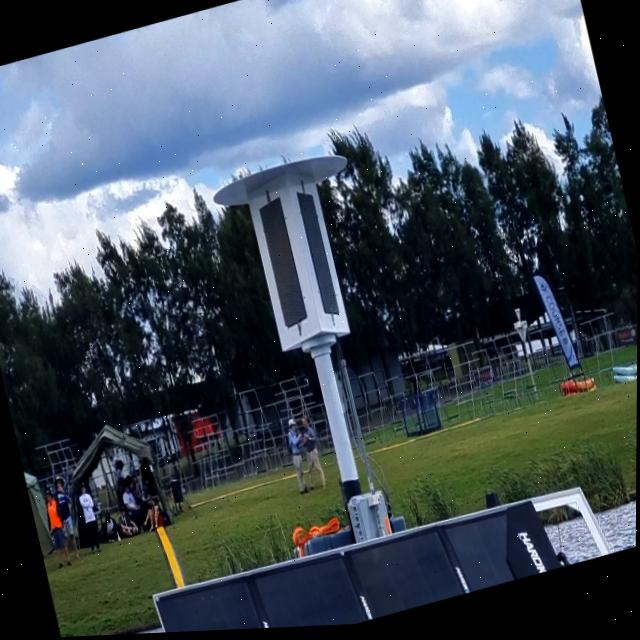led: (249, 188, 317, 340), (287, 173, 347, 335)
